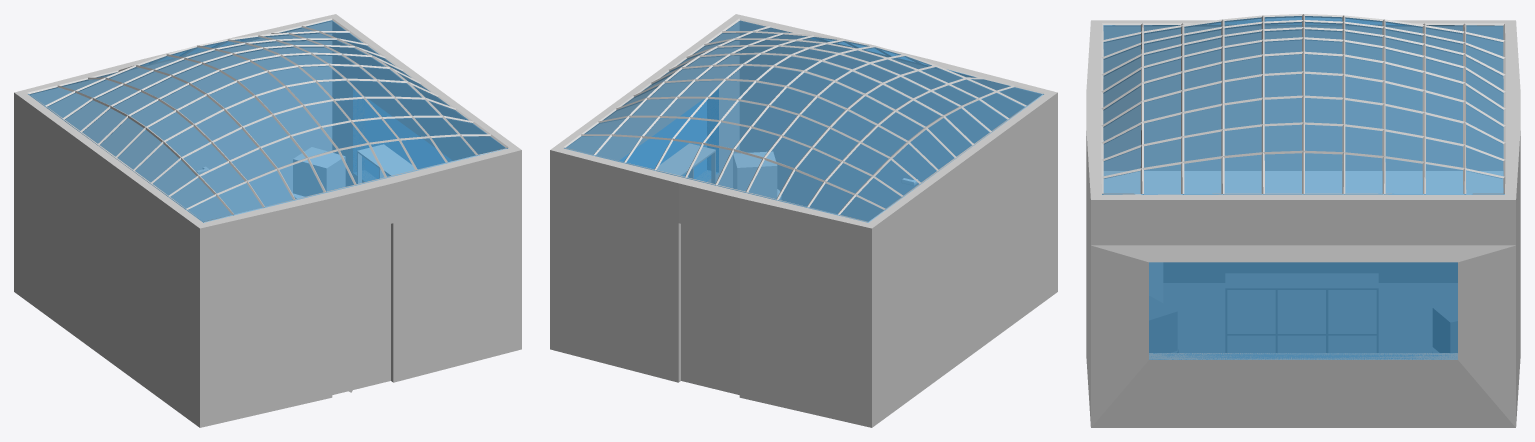
The model's file is Workshop.fbx.
3 views of the same model, side by side, from view 1: azimuth 30°, elevation 25°; view 2: azimuth 150°, elevation 25°; view 3: azimuth 270°, elevation 25° (orthographic). The views are drawn at different scales.
Visible parts, largest first — view 1: Walls, RoofWindowPlane, RoofGrid, Door, Door.001, WallsWindow, 3Dprinter, Horizontal; view 2: Walls, RoofWindowPlane, RoofGrid, Door.001, Door, WallsWindow, 3Dprinter.001, Horizontal; view 3: Walls, RoofWindowPlane, WallsWindow, RoofGrid, Limits, Worktable, Horizontal, 3Dprinter.001, 3Dprinter, WorktableRamp, VerticalBeams.
Boxes of the visible parts, box(x1,y1,x2,y2) form: Walls: box(14, 14, 521, 427); RoofWindowPlane: box(28, 20, 507, 222); RoofGrid: box(27, 18, 508, 222); Door: box(332, 224, 390, 394); Door.001: box(149, 89, 210, 221); WallsWindow: box(353, 88, 452, 181); 3Dprinter: box(293, 147, 345, 196); Horizontal: box(358, 144, 414, 175); Walls: box(550, 14, 1057, 427); RoofWindowPlane: box(564, 20, 1043, 222); RoofGrid: box(563, 18, 1044, 222); Door.001: box(681, 224, 739, 394); Door: box(861, 89, 922, 221); WallsWindow: box(619, 88, 718, 181); 3Dprinter.001: box(733, 151, 777, 198); Horizontal: box(657, 144, 715, 175); Walls: box(1086, 20, 1520, 427); RoofWindowPlane: box(1102, 16, 1504, 194); WallsWindow: box(1149, 262, 1457, 359); RoofGrid: box(1101, 14, 1505, 194); Limits: box(1163, 283, 1457, 352); Worktable: box(1102, 171, 1504, 282); Horizontal: box(1225, 273, 1378, 335); 3Dprinter.001: box(1149, 296, 1177, 352); 3Dprinter: box(1433, 303, 1457, 352); WorktableRamp: box(1149, 262, 1162, 302); VerticalBeams: box(1225, 273, 1378, 352).
Size of the model in its own units: 427 by 323 by 431.
